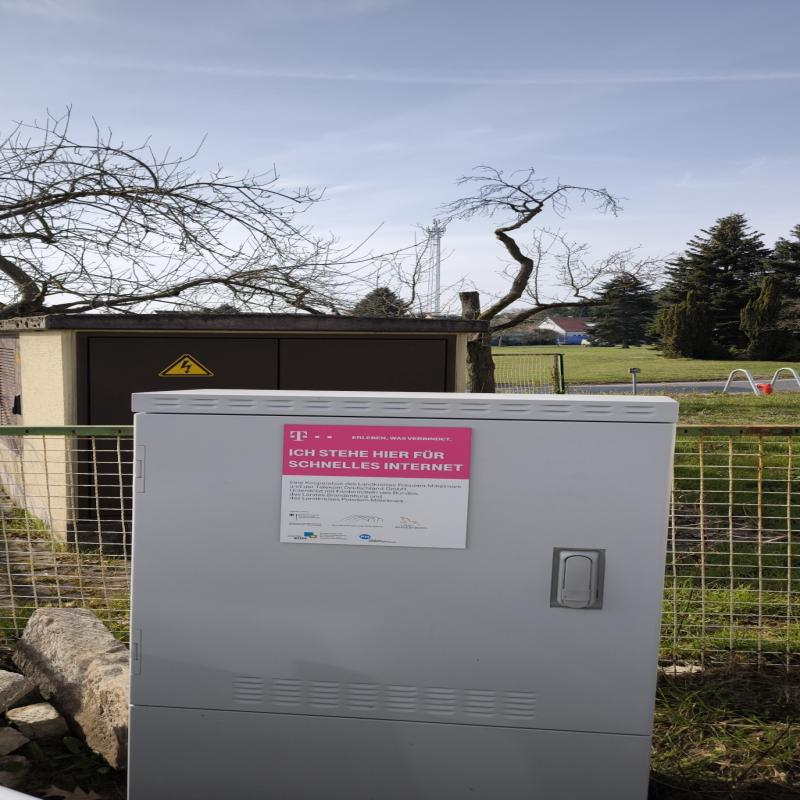NT-Gehause: (135, 390, 693, 800)
Steaker: (290, 424, 503, 553)
